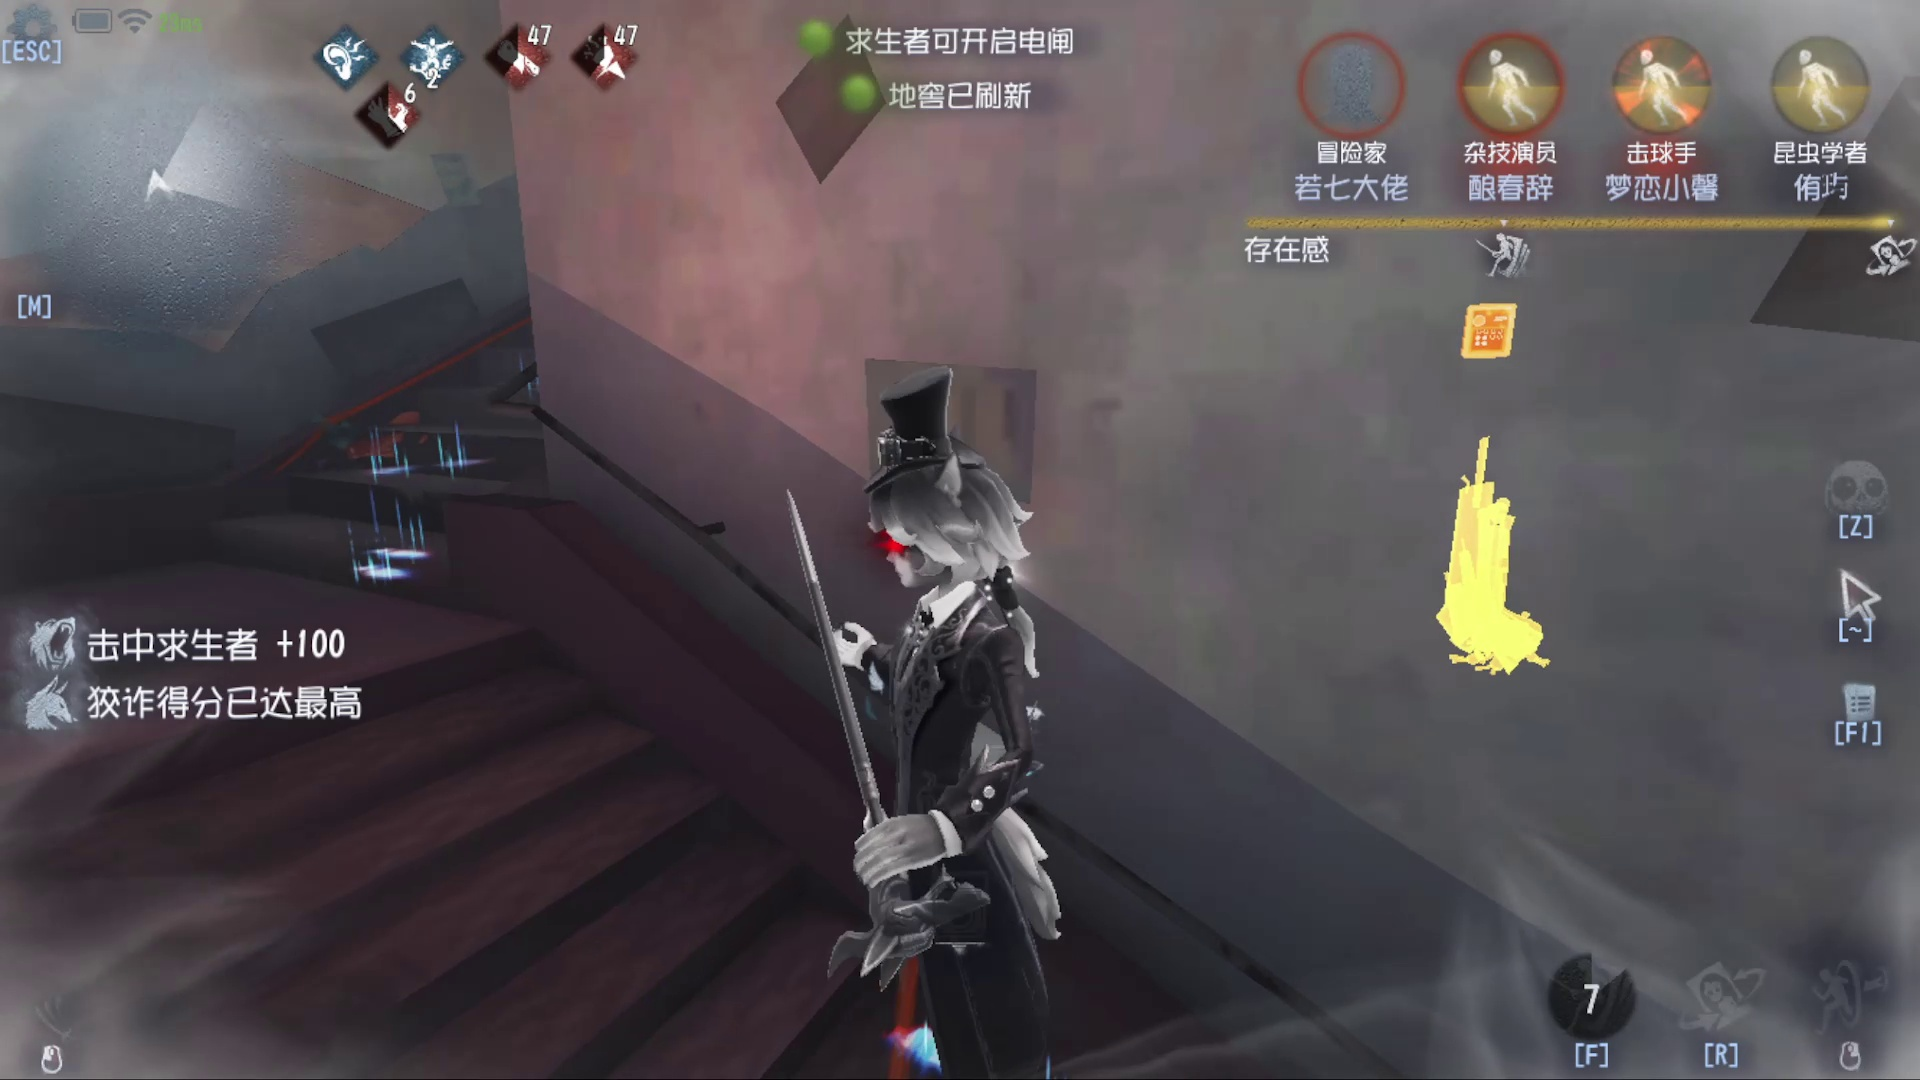狂欢之椅: (1377, 425, 1602, 715)
